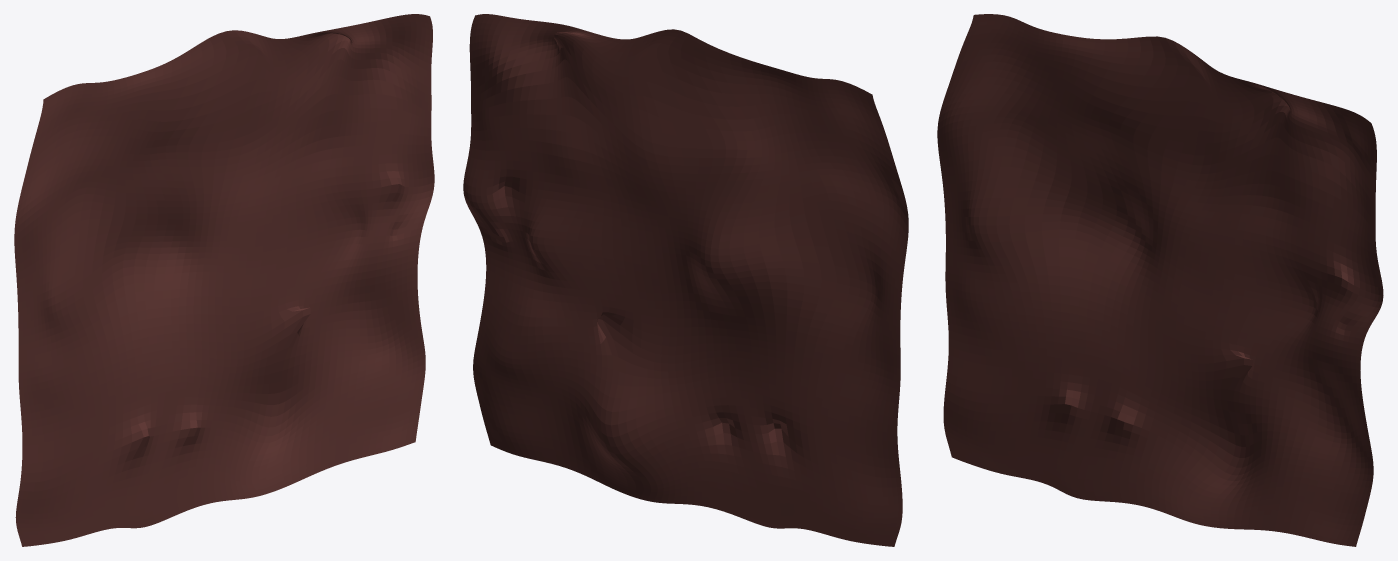
The model's file is terrain.glb.
The picture shows the model from 3 angles, left to right: view 1: azimuth 30°, elevation 25°; view 2: azimuth 150°, elevation 25°; view 3: azimuth 330°, elevation 25°; orthographic projection.
Visible parts, largest first — view 1: Plane; view 2: Plane; view 3: Plane.
Part boxes in pixels (box(x1,y1,x2,y2)): Plane: box(14, 14, 434, 546); Plane: box(463, 14, 908, 546); Plane: box(937, 14, 1383, 546).
Size of the model in its own units: 56.31 by 59.15 by 4.92.
